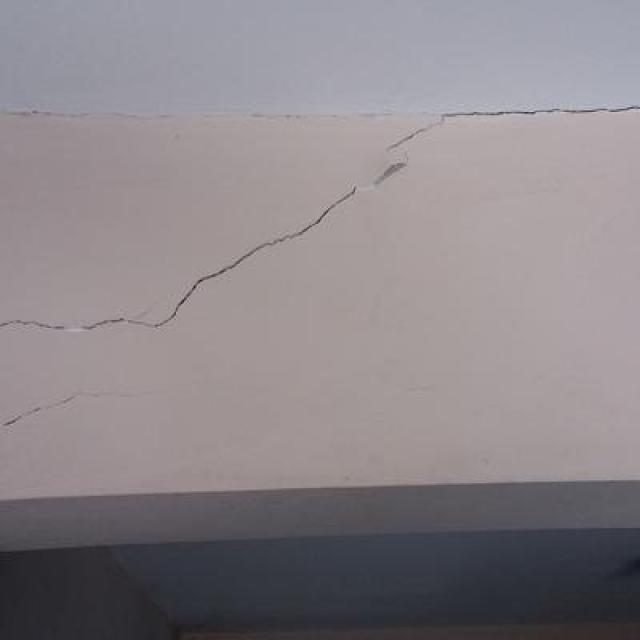crack: (0, 186, 357, 333), (382, 103, 638, 153), (4, 387, 153, 426), (362, 148, 414, 185)
